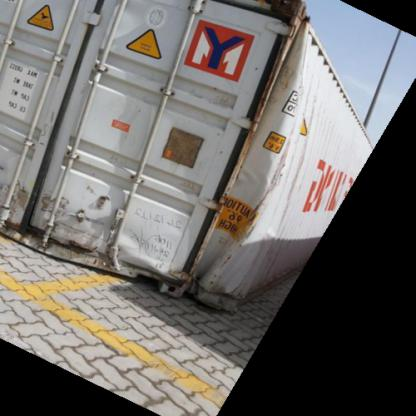Damage: (200, 94, 310, 296), (2, 184, 106, 246), (119, 206, 186, 268)
